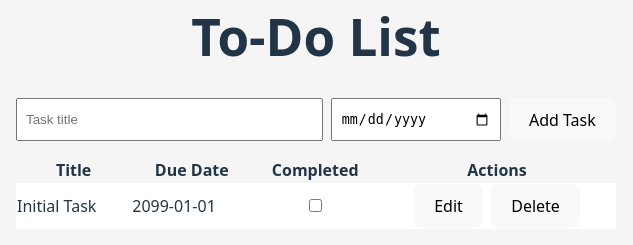
user can edit todo
Click the button with test id "edit-btn-0".
click(448, 206)  # box top-left (414, 184), bottom-right (483, 228)
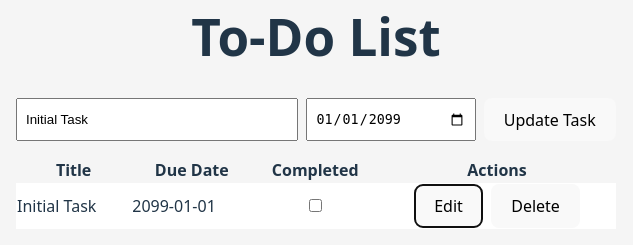
Replace the text in the field with test id "task-title-input" with "Updated Task" at {"x": 157, "y": 120}, box top-left (16, 98), bottom-right (298, 142)
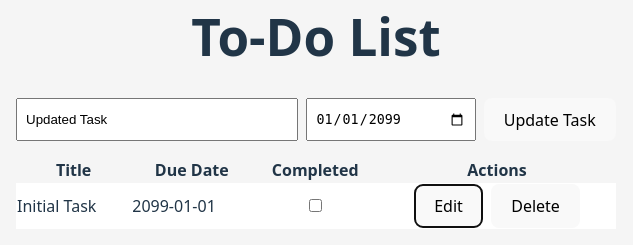
Click the button with test id "task-submit-btn".
click(550, 120)  # box top-left (484, 98), bottom-right (616, 142)
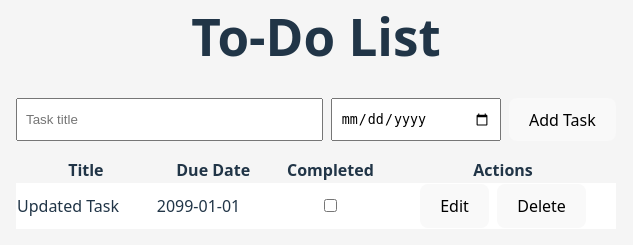
Result: the text "Updated Task" is shown at top-left (16, 184), bottom-right (156, 229)
